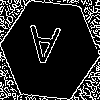A: (25, 25, 61, 74)
